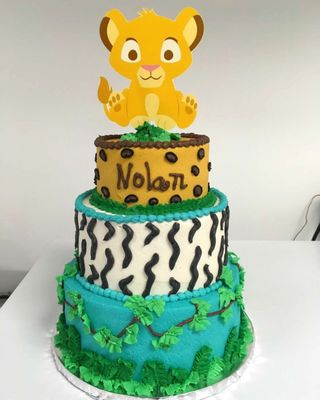curry: (0, 236, 320, 400)
pasta: (290, 192, 320, 242)
sushi: (52, 76, 256, 398), (61, 0, 235, 339)
